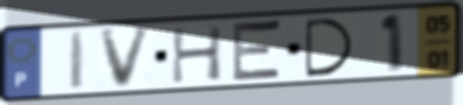1: (377, 12, 405, 75)
D: (302, 16, 358, 79)
E: (230, 17, 285, 85)
H: (169, 23, 225, 86)
I: (68, 29, 89, 93)
V: (97, 24, 156, 92)
